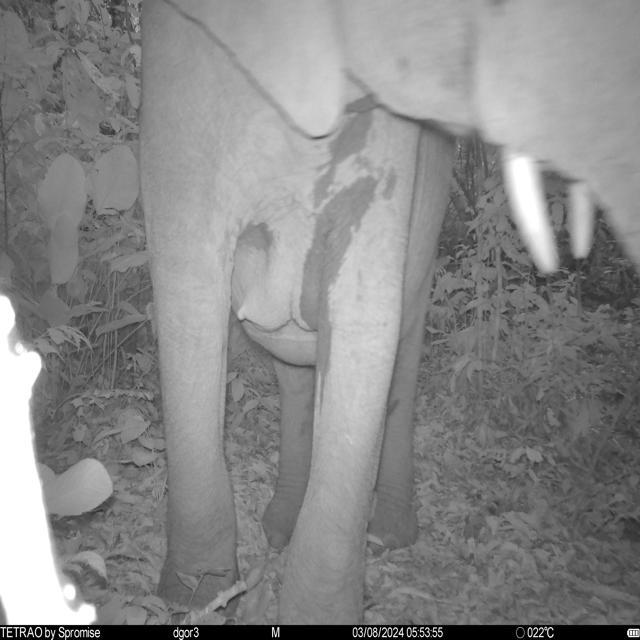ear: (166, 0, 344, 138)
elephant: (139, 0, 640, 624)
tusk: (502, 150, 560, 278), (564, 178, 594, 260)
